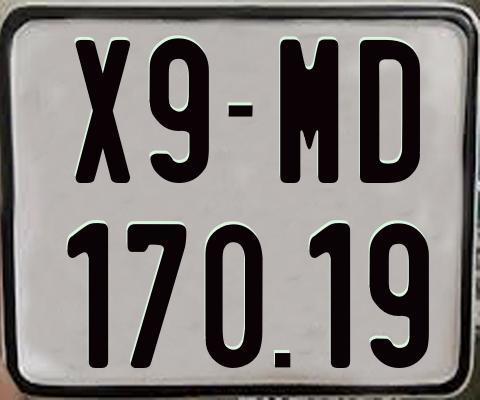0: (205, 222, 264, 372)
1: (307, 220, 354, 367), (67, 221, 110, 372)
7: (125, 222, 186, 367)
9: (147, 37, 210, 185), (368, 222, 430, 367)
D: (357, 40, 417, 188)
M: (280, 39, 341, 184)
X: (73, 37, 134, 185)
